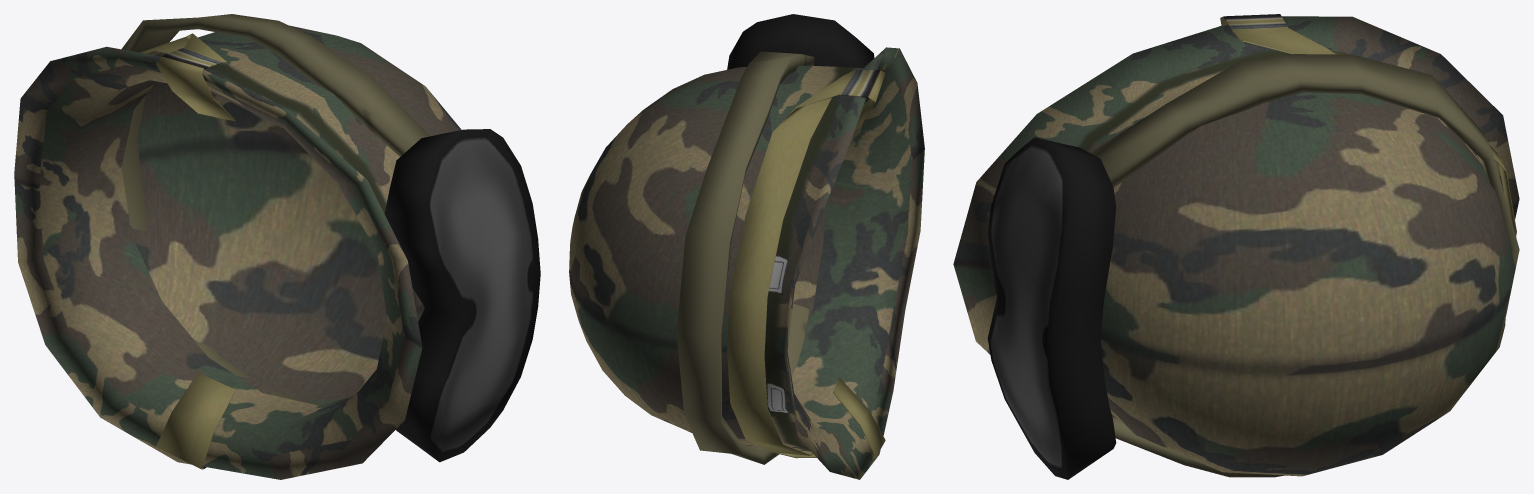
The model's file is M1HelmetStraplessGoggles.fbx.
3 renders of one model, left to right at view 1: azimuth 30°, elevation 25°; view 2: azimuth 150°, elevation 25°; view 3: azimuth 270°, elevation 25°, orthographic. The views are drawn at different scales.
Visible parts, largest first — view 1: Cube.001; view 2: Cube.001; view 3: Cube.001.
Boxes of the visible parts, <box> form: Cube.001: <box>14,14,540,479</box>; Cube.001: <box>569,14,924,479</box>; Cube.001: <box>953,14,1519,479</box>.
Bounding box in the file's own units: 0.1992 × 0.1362 × 0.1592.
